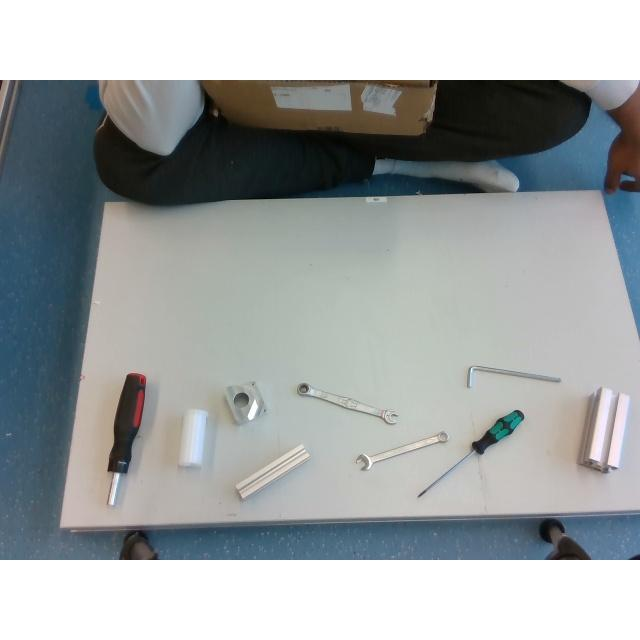F20_20_G: (235, 444, 309, 500)
S40_40_G: (580, 386, 628, 474)
Screwdriver: (418, 410, 526, 498)
Spacer: (179, 409, 207, 467)
Wrench: (297, 383, 399, 423)
